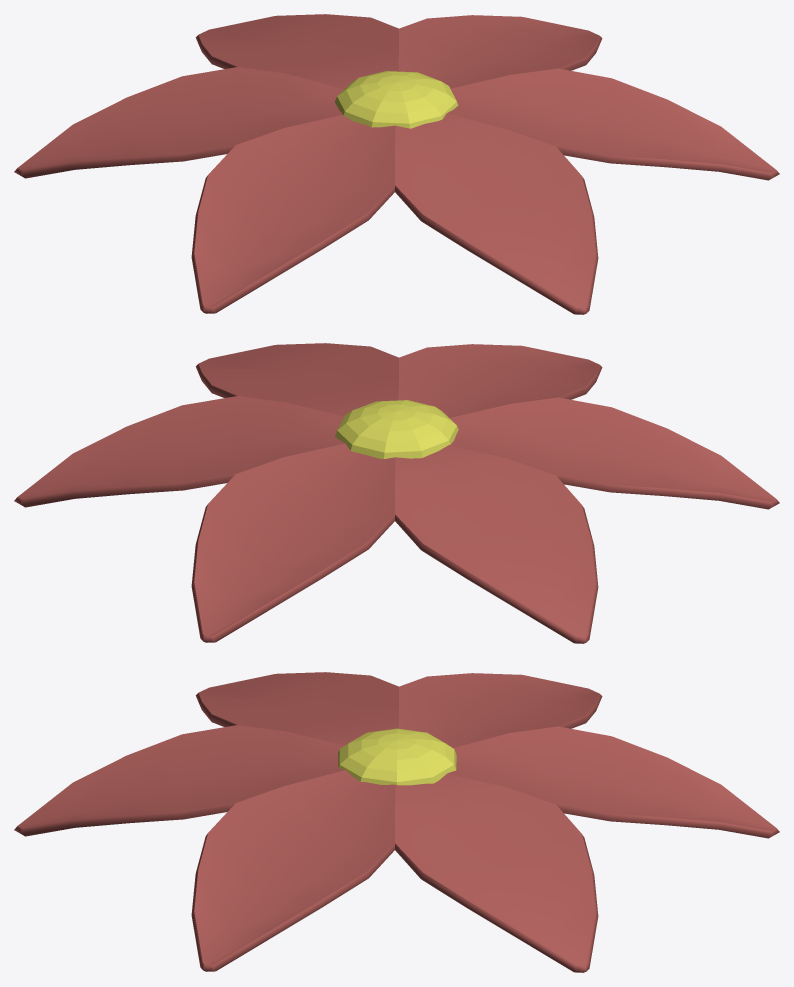
File: ModularFlower_RedFlower00.fbx
3 renders of one model, top to bottom at view 1: azimuth 30°, elevation 25°; view 2: azimuth 150°, elevation 25°; view 3: azimuth 270°, elevation 25°, orthographic.
Visible parts, largest first — view 1: pPlane92; view 2: pPlane92; view 3: pPlane92.
Part boxes in pixels (x1,y1,x2,y2): pPlane92: (14, 14, 779, 314); pPlane92: (14, 343, 779, 643); pPlane92: (14, 672, 779, 972).
Size of the model in its own units: 664 by 103 by 763.
